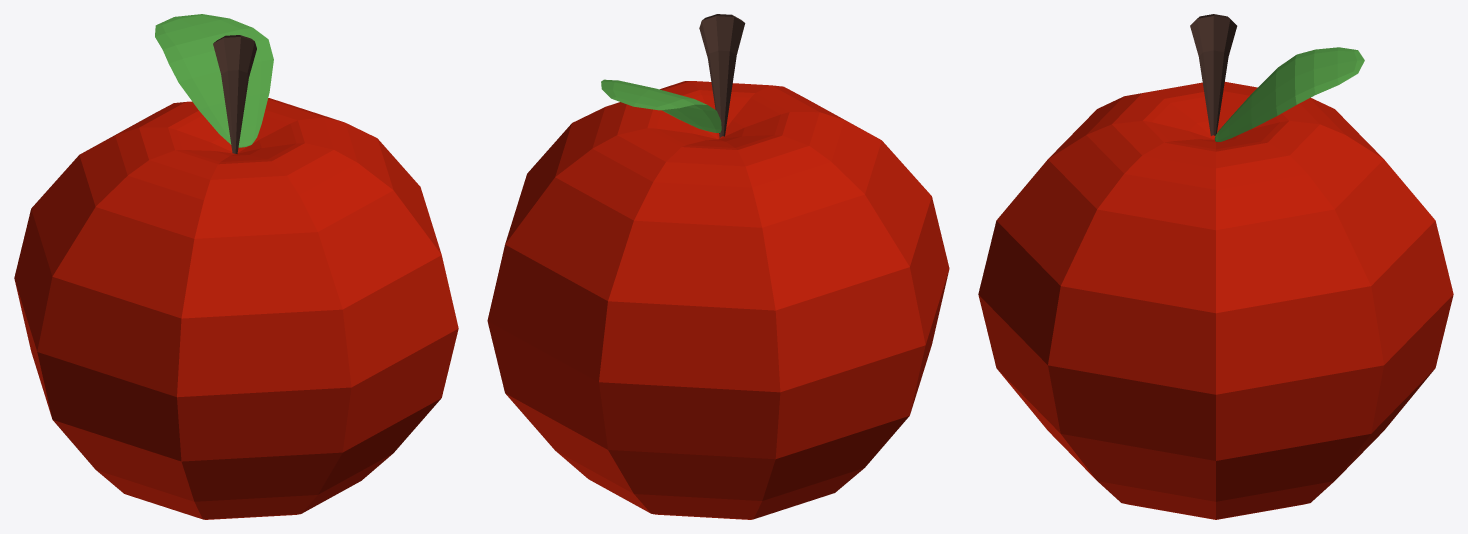
Rendered from apple.fbx.
3 views of the same model, side by side, from view 1: azimuth 30°, elevation 25°; view 2: azimuth 150°, elevation 25°; view 3: azimuth 270°, elevation 25° (orthographic). The views are drawn at different scales.
Parts seen in each view (by area): view 1: Sphere, Cube; view 2: Sphere, Cube; view 3: Sphere, Cube.
Boxes of the visible parts, left/top/right/bottom form: Sphere: left=14, top=98, right=458, bottom=519; Cube: left=155, top=14, right=273, bottom=153; Sphere: left=487, top=81, right=949, bottom=519; Cube: left=601, top=14, right=745, bottom=137; Sphere: left=978, top=82, right=1453, bottom=519; Cube: left=1190, top=14, right=1364, bottom=141.
Size of the model in its own units: 200 by 208 by 200.
